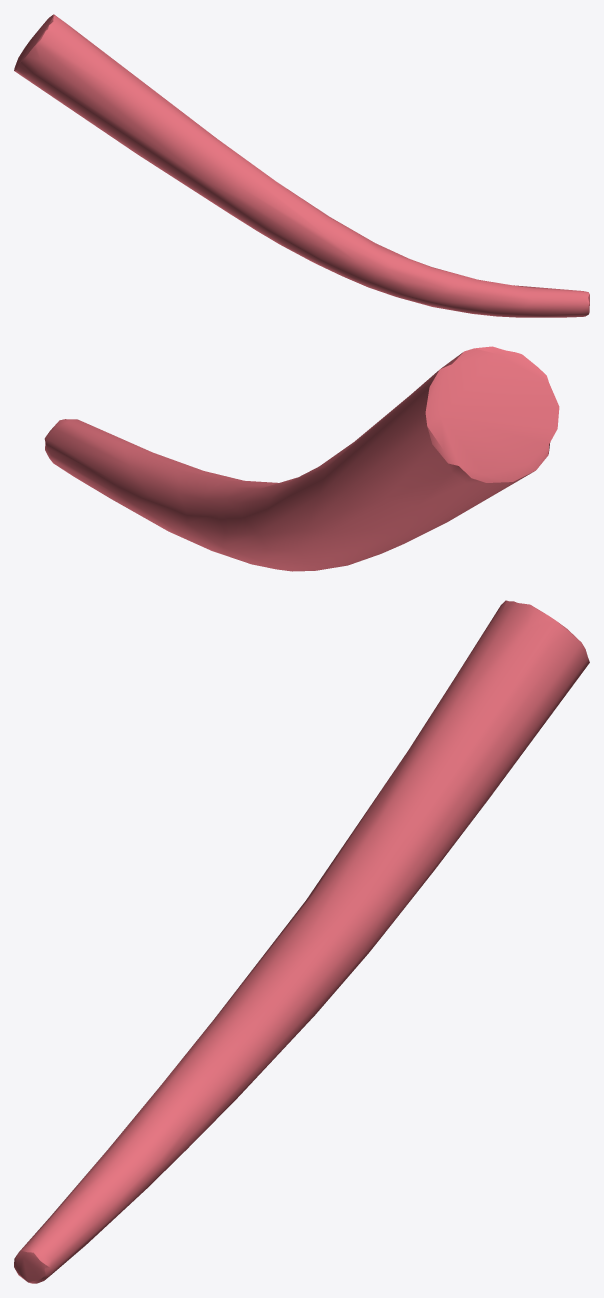
The model's file is fma8644_fj2885.glb.
The picture shows the model from 3 angles, top to bottom: view 1: azimuth 30°, elevation 25°; view 2: azimuth 150°, elevation 25°; view 3: azimuth 270°, elevation 25°; orthographic projection. The views are drawn at different scales.
Parts seen in each view (by area): view 1: FMA8644_FJ2885; view 2: FMA8644_FJ2885; view 3: FMA8644_FJ2885.
Boxes of the visible parts, x1,y1,x2,y2 form: FMA8644_FJ2885: [14, 14, 589, 317]; FMA8644_FJ2885: [44, 346, 559, 571]; FMA8644_FJ2885: [14, 600, 589, 1283].
Size of the model in its own units: 0.0372 by 0.0232 by 0.0297.
